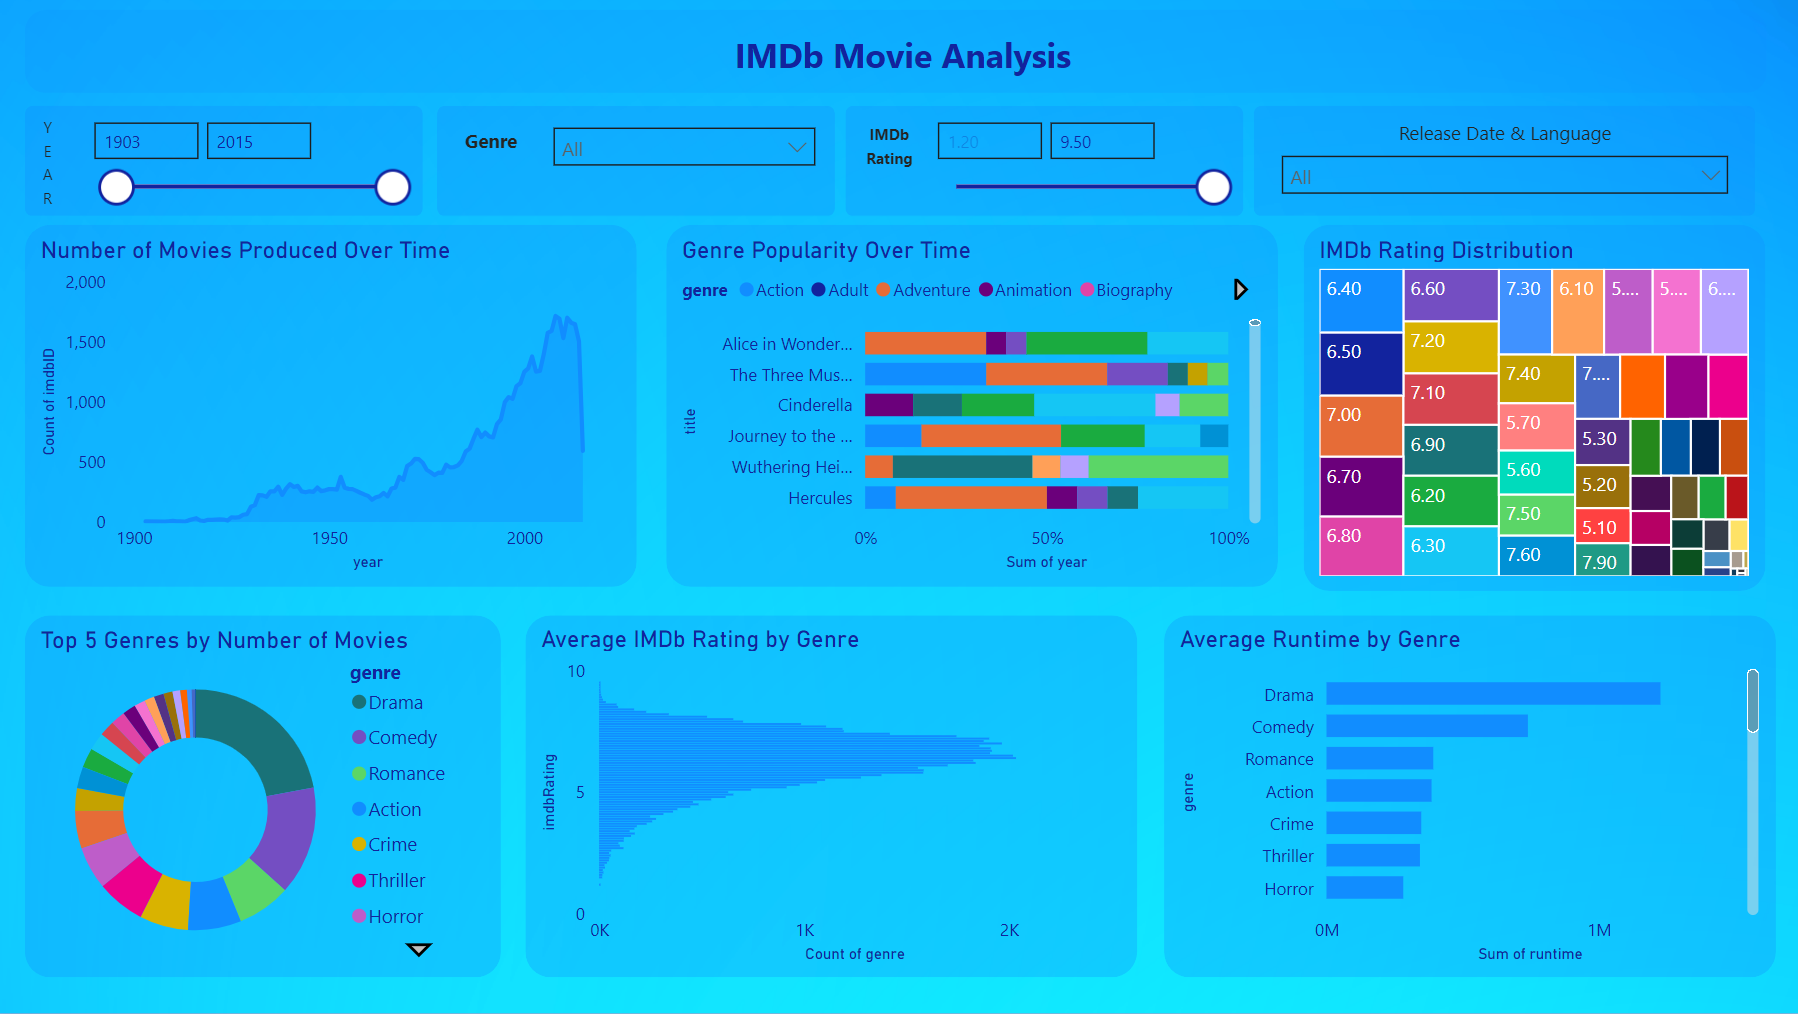

The page's visual inventory and layout, read from the dashboard file:
{"tool":"powerbi","page":{"name":"Page 1","canvas":[1280,720],"ordinal":0},"visuals":[{"type":"shape","box":[18.9,75.3,282.6,78.4],"z":0},{"type":"shape","box":[19.1,437.3,338.2,257.3],"z":0,"group":"g3"},{"type":"shape","box":[374.5,437.3,434.5,257.3],"z":0,"group":"g2"},{"type":"shape","box":[828.2,437.3,434.5,257.3],"z":0,"group":"g1"},{"type":"shape","box":[19.1,7.3,1237.3,59.1],"z":1000},{"type":"clusteredBarChart","title":"Average IMDb Rating by Genre","fields":{"Y":["CountNonNull(cleaned_imdb_data.genre)"],"Category":["cleaned_imdb_data.imdbRating"]},"box":[380.9,443.7,421.8,244.5],"z":1000,"group":"g2"},{"type":"barChart","title":"Average Runtime by Genre","fields":{"Category":["cleaned_imdb_data.genre"],"Y":["Sum(cleaned_imdb_data.runtime)"]},"box":[834.6,443.7,420.9,244.5],"z":1000,"group":"g1"},{"type":"donutChart","title":"Top 5 Genres by Number of Movies","fields":{"Y":["CountNonNull(cleaned_imdb_data.imdbID)"],"Category":["cleaned_imdb_data.genre"]},"box":[25.5,444.6,324.5,242.7],"z":1000,"group":"g3"},{"type":"textbox","box":[266.4,17.3,752.7,45.5],"z":2000},{"type":"shape","box":[19.1,160,434.5,257.3],"z":2000,"group":"g5"},{"type":"lineChart","title":"Number of Movies Produced Over Time","fields":{"Category":["cleaned_imdb_data.year"],"Y":["CountNonNull(cleaned_imdb_data.imdbID)"]},"box":[25.5,167.3,421.8,242.7],"z":3000,"group":"g5"},{"type":"group","id":"g1","title":"Group 1","box":[828.2,437.3,434.5,257.3],"z":3000},{"type":"shape","box":[474.5,160,434.5,257.3],"z":4000,"group":"g4"},{"type":"shape","box":[927.3,160,328.2,260],"z":4000,"group":"g6"},{"type":"group","id":"g2","title":"Group 2","box":[374.5,437.3,434.5,257.3],"z":4000},{"type":"hundredPercentStackedBarChart","title":"Genre Popularity Over Time","fields":{"Series":["cleaned_imdb_data.genre"],"Category":["cleaned_imdb_data.title"],"Y":["Sum(cleaned_imdb_data.year)"]},"box":[480.9,167.3,420.9,242.7],"z":5000,"group":"g4"},{"type":"group","id":"g3","title":"Group 3","box":[19.1,437.3,338.2,257.3],"z":5000},{"type":"group","id":"g4","title":"Group 4","box":[474.5,160,434.5,257.3],"z":6000},{"type":"group","id":"g5","title":"Group 5","box":[19.1,160,434.5,257.3],"z":7000},{"type":"group","id":"g6","title":"Group 4","box":[927.3,160,328.2,260],"z":8000},{"type":"treemap","title":"IMDb Rating Distribution","fields":{"Group":["cleaned_imdb_data.imdbRating"],"Values":["CountNonNull(cleaned_imdb_data.imdbID)"]},"box":[933.6,167.3,314.5,247.3],"z":9000},{"type":"slicer","fields":{"Values":["cleaned_imdb_data.year"]},"box":[55.8,76.8,245.8,75.8],"z":10000},{"type":"textbox","title":"YEAE","box":[25.3,75.3,19.5,78.4],"z":11000},{"type":"shape","box":[312.1,75.3,282.6,78.4],"z":12000},{"type":"slicer","fields":{"Values":["cleaned_imdb_data.genre"]},"box":[384.7,81.1,205.8,45.8],"z":13000},{"type":"textbox","title":"YEAE","box":[315.3,86.3,69.5,28.4],"z":14000},{"type":"shape","box":[601.6,75.3,282.6,78.4],"z":15000},{"type":"slicer","fields":{"Values":["cleaned_imdb_data.imdbRating"]},"box":[654.5,77.3,230,76.4],"z":16000},{"type":"textbox","title":"YEAE","box":[605.3,81.1,55.3,68.9],"z":17000},{"type":"shape","box":[892.1,75.3,356.3,78.4],"z":18000},{"type":"slicer","fields":{"Values":["cleaned_imdb_data.language","cleaned_imdb_data.released"]},"box":[902.1,100.5,337.4,45.8],"z":19000},{"type":"textbox","title":"YEAE","box":[966.3,81.1,207.9,26.8],"z":19001}]}

Visuals, with their boxes in screenshot pixels (x1, y1, x2, y2), scaled from the page's 1280x720 canvas onto the 1798x1014 screenshot:
shape: bbox=[27, 106, 424, 216]
shape: bbox=[27, 616, 502, 978]
shape: bbox=[526, 616, 1136, 978]
shape: bbox=[1163, 616, 1774, 978]
shape: bbox=[27, 10, 1765, 94]
"Average IMDb Rating by Genre" clusteredBarChart: bbox=[535, 625, 1128, 969]
"Average Runtime by Genre" barChart: bbox=[1172, 625, 1764, 969]
"Top 5 Genres by Number of Movies" donutChart: bbox=[36, 626, 492, 968]
textbox: bbox=[374, 24, 1432, 88]
shape: bbox=[27, 225, 637, 588]
"Number of Movies Produced Over Time" lineChart: bbox=[36, 236, 628, 577]
"Group 1" group: bbox=[1163, 616, 1774, 978]
shape: bbox=[667, 225, 1277, 588]
shape: bbox=[1303, 225, 1764, 592]
"Group 2" group: bbox=[526, 616, 1136, 978]
"Genre Popularity Over Time" hundredPercentStackedBarChart: bbox=[676, 236, 1267, 577]
"Group 3" group: bbox=[27, 616, 502, 978]
"Group 4" group: bbox=[667, 225, 1277, 588]
"Group 5" group: bbox=[27, 225, 637, 588]
"Group 4" group: bbox=[1303, 225, 1764, 592]
"IMDb Rating Distribution" treemap: bbox=[1311, 236, 1753, 584]
slicer - cleaned_imdb_data.year: bbox=[78, 108, 424, 215]
"YEAE" textbox: bbox=[36, 106, 63, 216]
shape: bbox=[438, 106, 835, 216]
slicer - cleaned_imdb_data.genre: bbox=[540, 114, 829, 179]
"YEAE" textbox: bbox=[443, 122, 541, 162]
shape: bbox=[845, 106, 1242, 216]
slicer - cleaned_imdb_data.imdbRating: bbox=[919, 109, 1242, 216]
"YEAE" textbox: bbox=[850, 114, 928, 211]
shape: bbox=[1253, 106, 1754, 216]
slicer - cleaned_imdb_data.language x cleaned_imdb_data.released: bbox=[1267, 142, 1741, 206]
"YEAE" textbox: bbox=[1357, 114, 1649, 152]
